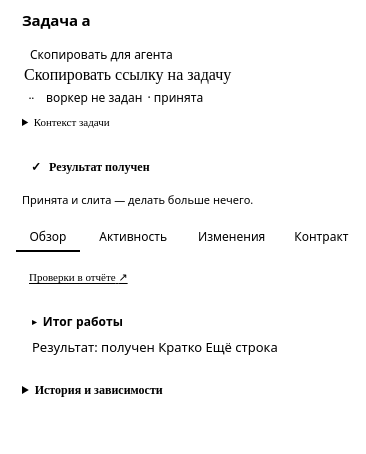
Test: links a long fact to its report line, opens a folded report, and marks that line
Step 1. Click the button "Проверки в отчёте ↗" → (78, 277), box [22,267,135,287]
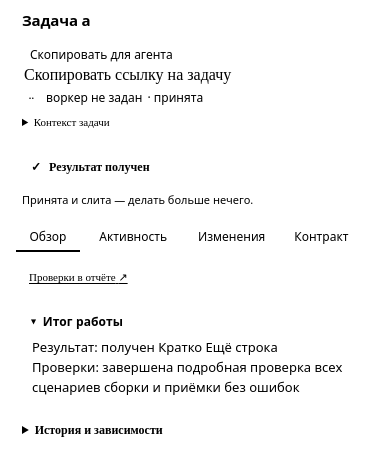
Expected: the button "▸ Итог работы" is expanded, [32,313,123,331]
